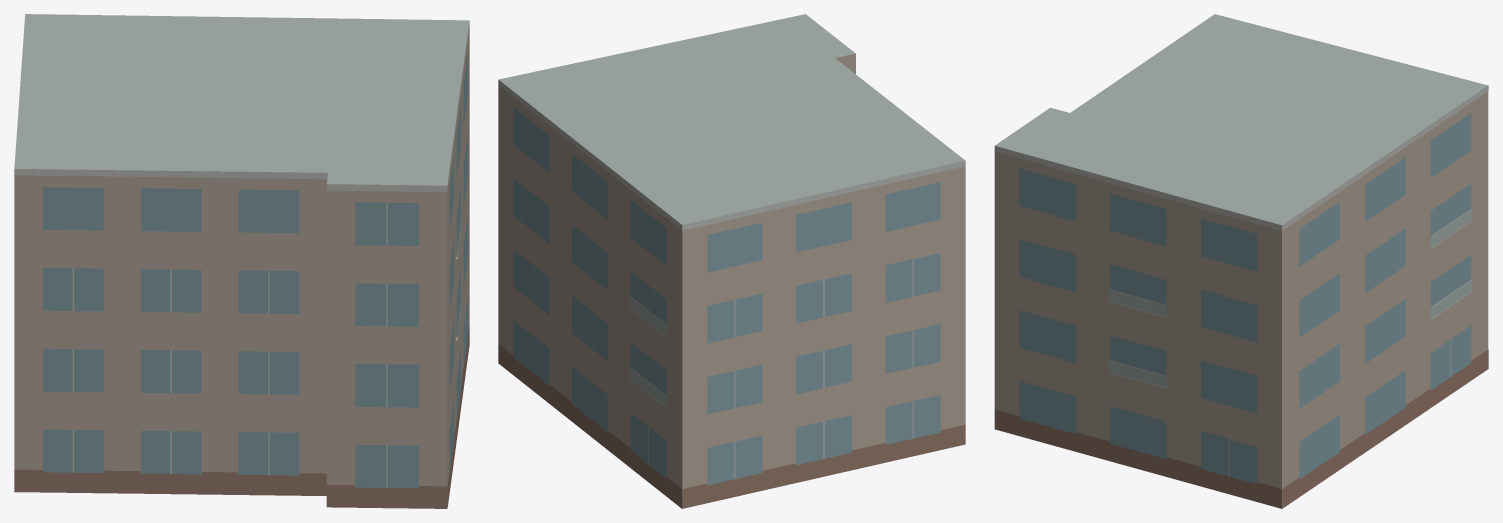
File: survey-upis-33002015.glb
The picture shows the model from 3 angles, left to right: view 1: azimuth 30°, elevation 25°; view 2: azimuth 150°, elevation 25°; view 3: azimuth 270°, elevation 25°; orthographic projection. The views are drawn at different scales.
Visible parts, largest first — view 1: survey-upis-33002015.tmp; view 2: survey-upis-33002015.tmp; view 3: survey-upis-33002015.tmp.
Part boxes in pixels (x1,y1,x2,y2): survey-upis-33002015.tmp: [14, 14, 469, 508]; survey-upis-33002015.tmp: [498, 14, 965, 508]; survey-upis-33002015.tmp: [994, 14, 1488, 508].
Size of the model in its own units: 19.51 by 12.2 by 19.26.
